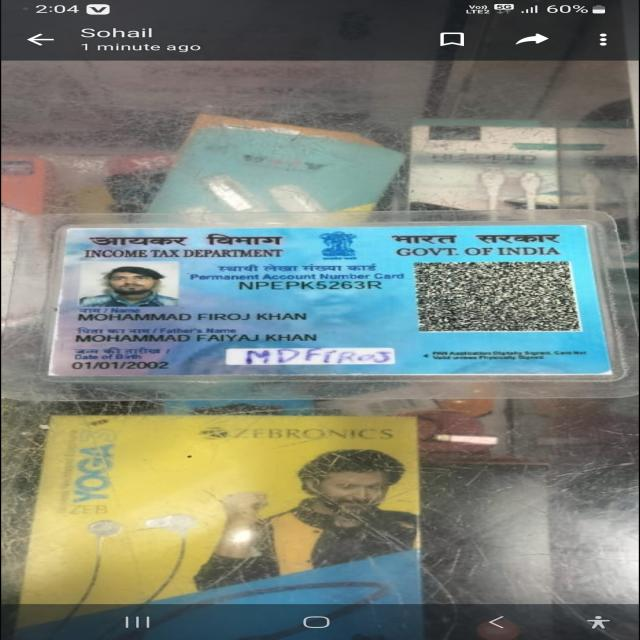pan_card: (45, 223, 614, 378)
